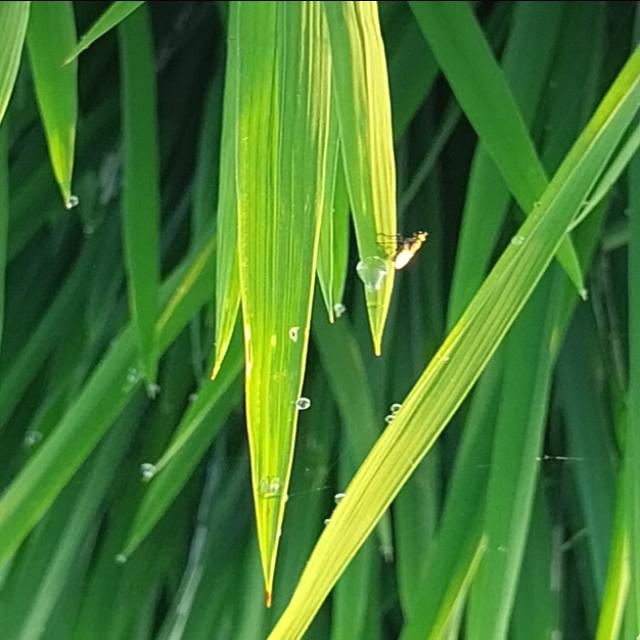healthy: (375, 200, 456, 282)
